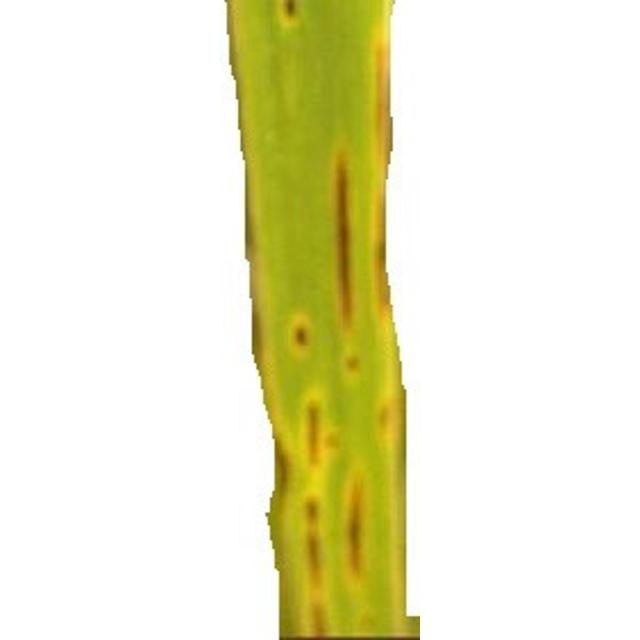Brown spot: (381, 3, 421, 640), (286, 379, 340, 640), (326, 136, 362, 332), (343, 453, 380, 582), (284, 305, 318, 357), (270, 0, 309, 34), (341, 342, 368, 381)
